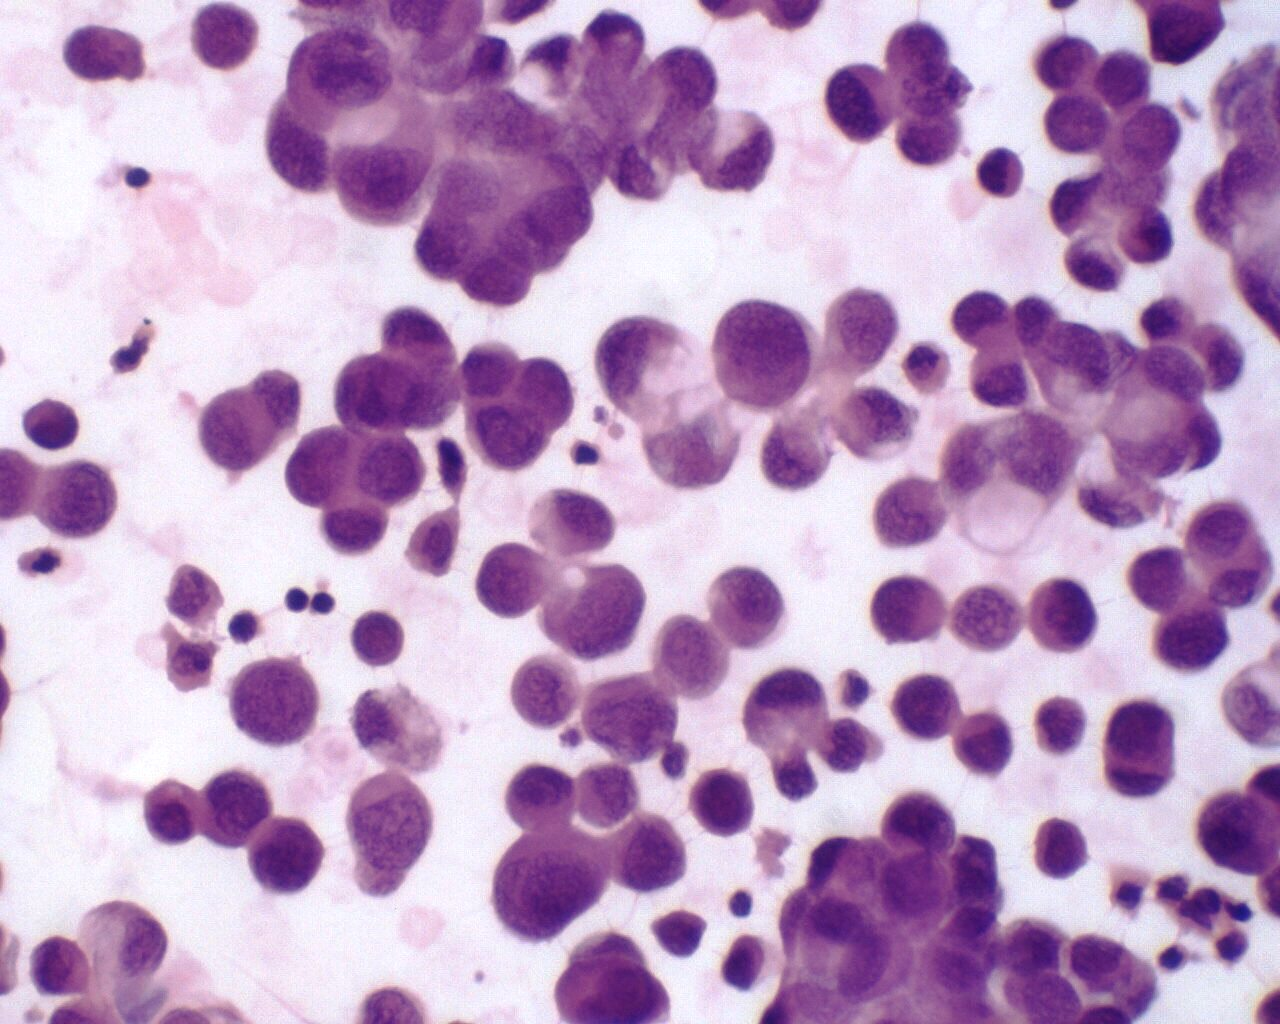ab: (709, 295, 814, 411), (226, 653, 324, 745), (1098, 698, 1183, 802), (461, 395, 556, 475), (820, 55, 900, 147), (607, 810, 690, 895), (706, 563, 785, 650), (1151, 587, 1231, 671), (197, 768, 276, 850), (476, 542, 555, 624), (249, 814, 326, 895), (872, 569, 949, 649), (348, 432, 429, 505), (501, 762, 579, 836), (1027, 573, 1099, 653), (690, 767, 761, 842), (1044, 86, 1115, 158), (894, 668, 960, 743), (1028, 814, 1095, 882), (954, 708, 1017, 779), (15, 391, 85, 453), (27, 934, 93, 999), (348, 606, 408, 668)
lymph: (282, 581, 311, 616)
